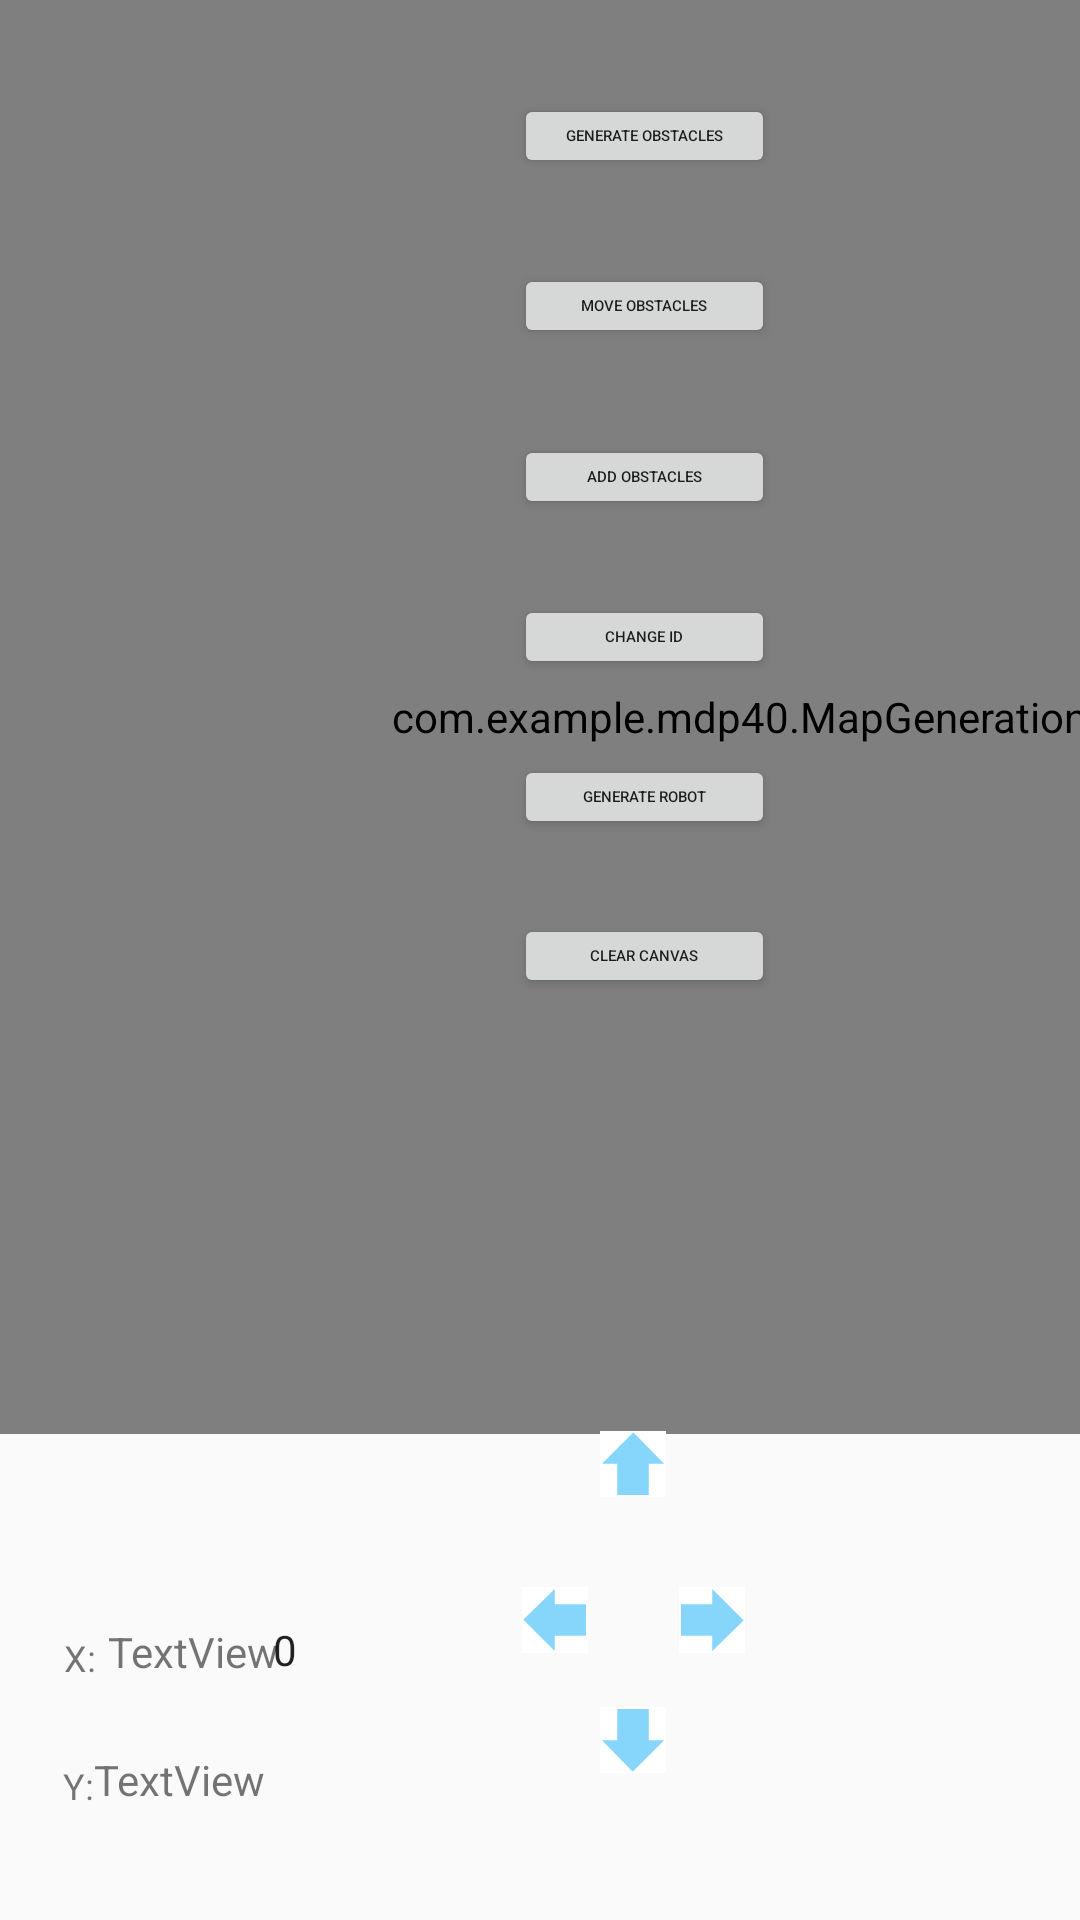

Screen size 1080 x 1920. Icon name, then its box in pixels as (x1, y1, x2, y2):
backward: (602, 1709, 664, 1772)
forward: (602, 1432, 664, 1495)
turnleft: (523, 1589, 586, 1651)
turnright: (681, 1589, 744, 1651)
